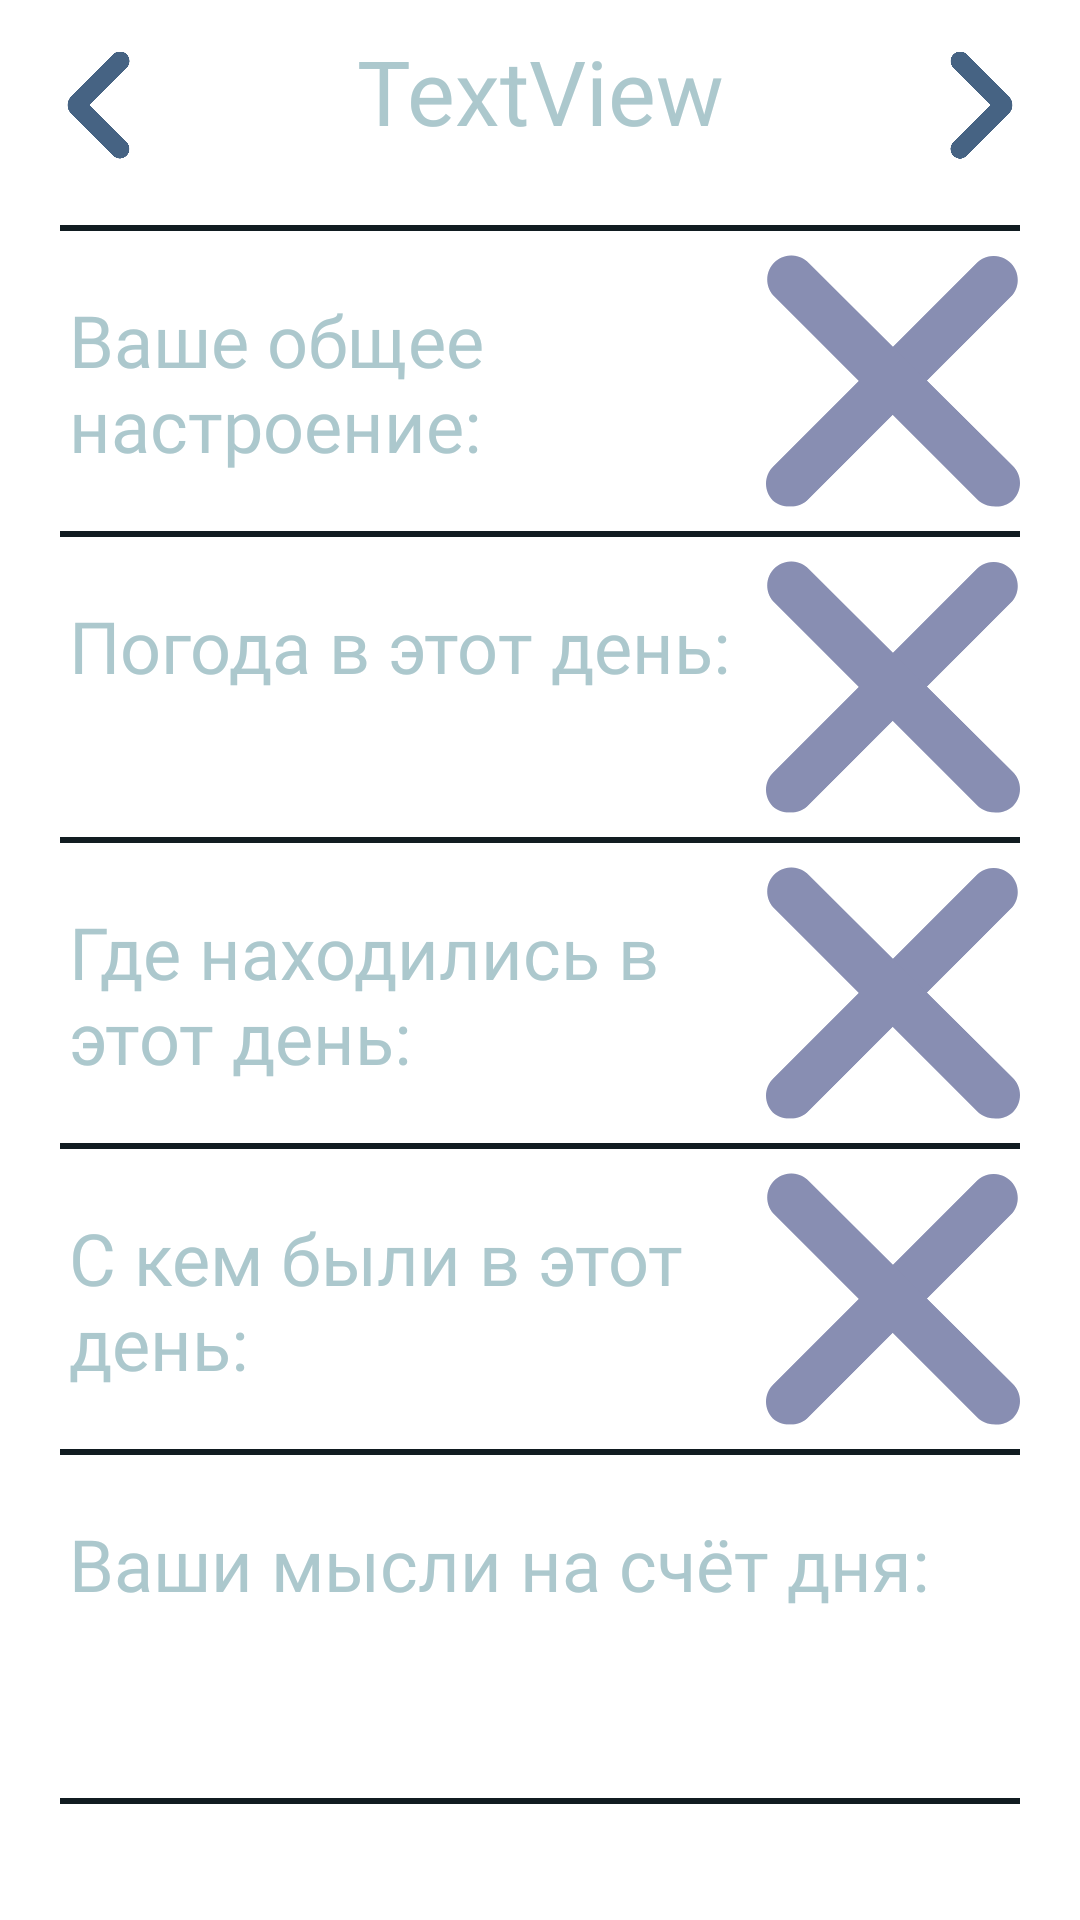

Locate icon controls on the screen. Image size 1080*1920, boxes as [x1,y1,x2,y2].
left arrow: [67,52,130,159]
right arrow: [950,52,1013,159]
